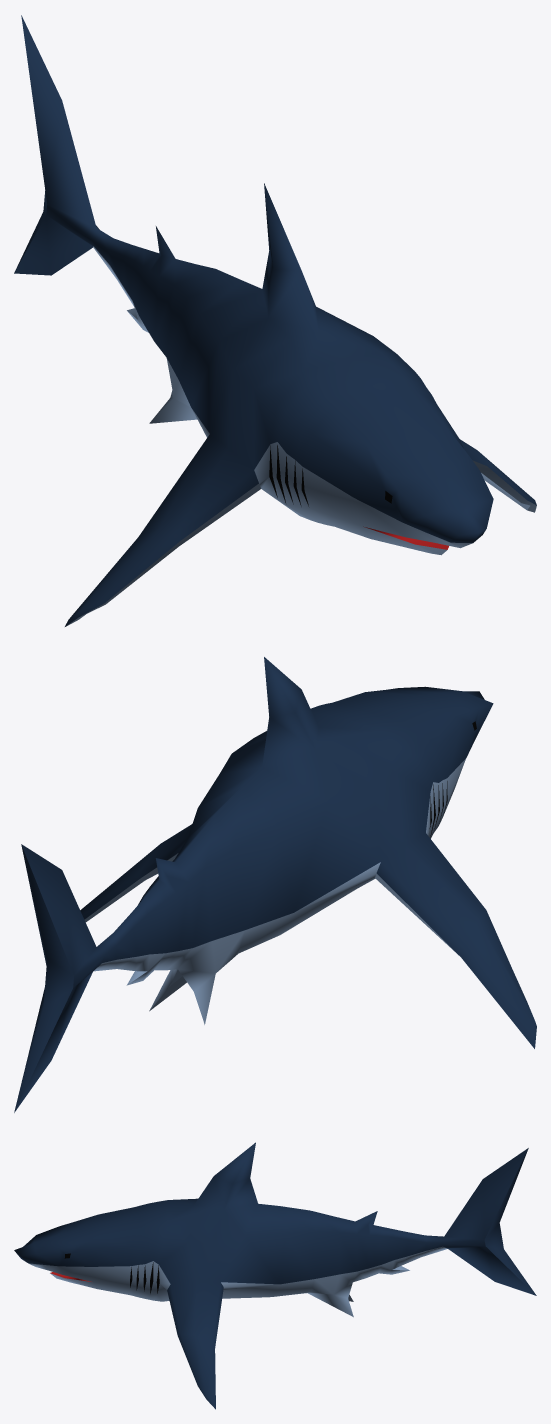
Rendered from shark.FBX.
The picture shows the model from 3 angles, top to bottom: view 1: azimuth 30°, elevation 25°; view 2: azimuth 150°, elevation 25°; view 3: azimuth 270°, elevation 25°; orthographic projection. The views are drawn at different scales.
Visible parts, largest first — view 1: Box001; view 2: Box001; view 3: Box001.
Part boxes in pixels (x1=…): Box001: x1=14, y1=15, x2=536, y2=626; Box001: x1=14, y1=657, x2=536, y2=1112; Box001: x1=14, y1=1142, x2=536, y2=1409.
Bounding box in the file's own units: 42.29 × 31.06 × 72.43.
